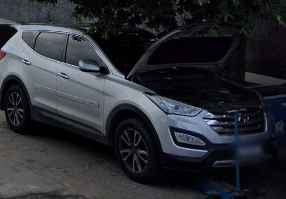car: (1, 24, 275, 186)
